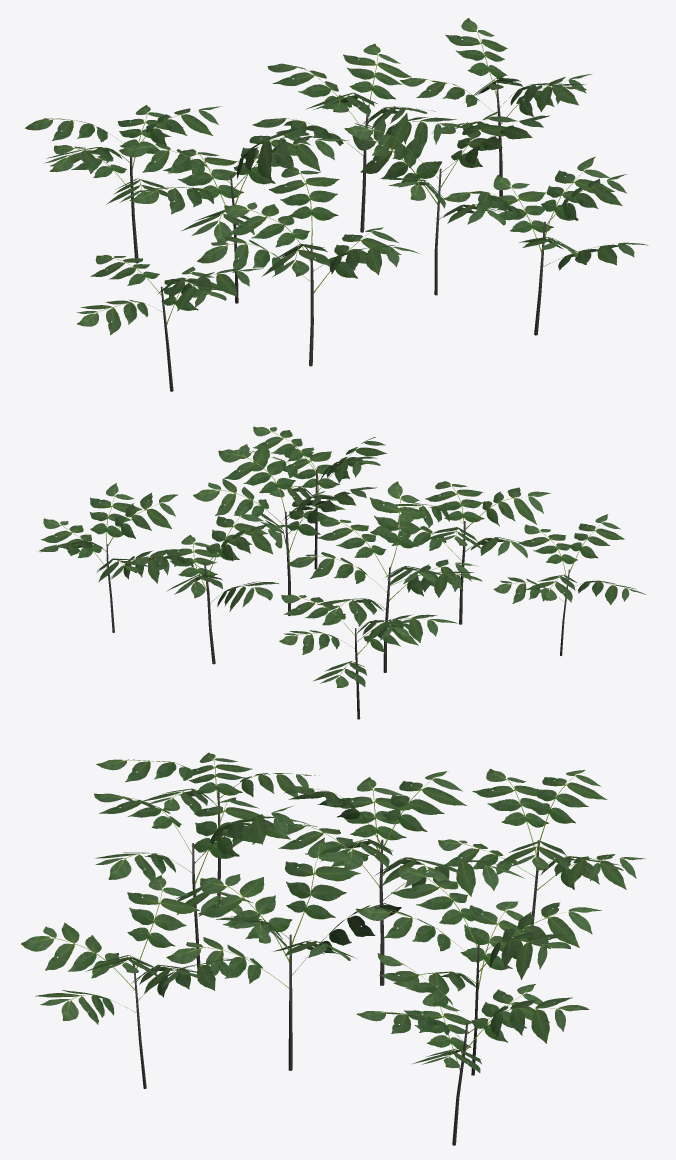
File: GrassPlant02.fbx
3 renders of one model, top to bottom at view 1: azimuth 30°, elevation 25°; view 2: azimuth 150°, elevation 25°; view 3: azimuth 270°, elevation 25°, orthographic. The views are drawn at different scales.
Visible parts, largest first — view 1: GrassPlant02_LOD0; view 2: GrassPlant02_LOD0; view 3: GrassPlant02_LOD0.
Boxes of the visible parts, x1,y1,x2,y2 form: GrassPlant02_LOD0: (25,18,648,391); GrassPlant02_LOD0: (39,426,645,719); GrassPlant02_LOD0: (21,752,645,1145).
Size of what is drawn, in the model's own units: 306 by 88.7 by 242.
